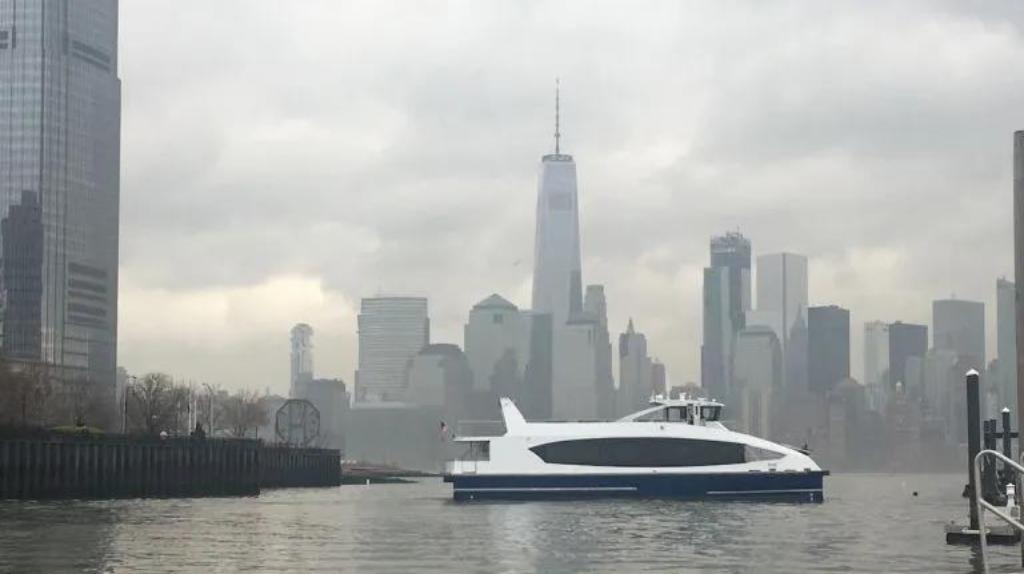PassengerShip: (432, 384, 832, 500)
